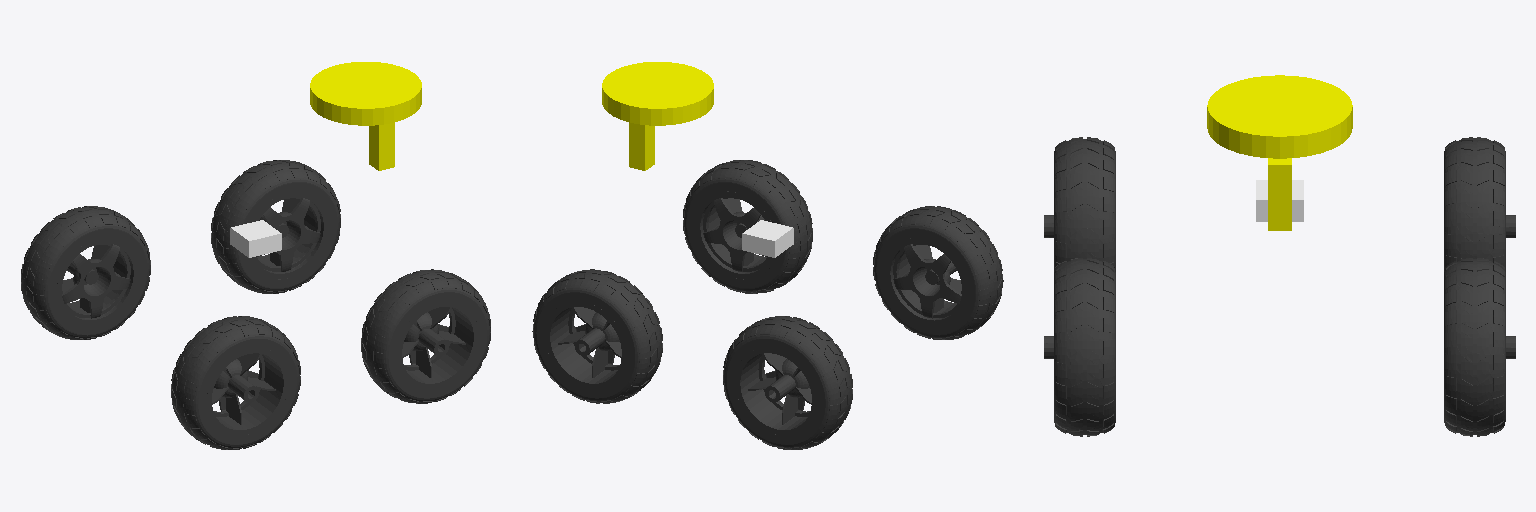
The robot description file, URDF, robot "URDFF_gz":
<?xml version="1.0" encoding="utf-8"?>
<robot name="URDFF_gz">
  
  <!-- Base Link -->
  <link name="base_link">
    <inertial>
      <origin xyz="0.0121459734710621 0.000198241570210142 0.0449906840595474" rpy="0 0 0" />
      <mass value="1.00796524149794" />
      <inertia
        ixx="0.000664022840014205"
        ixy="3.36477372709559E-06"
        ixz="-6.46022439037541E-06"
        iyy="0.00190520705036307"
        iyz="5.00471440887707E-10"
        izz="0.00244406959005576" />
    </inertial>
    <visual>
      <origin xyz="0 0 0" rpy="0 0 3.14159265359" />
      <geometry>
        <mesh filename="package://URDFF_gz/meshes/base_link.STL" />
      </geometry>
      <material name="">
        <color rgba="1 1 0 1" />
      </material>
    </visual>
    <collision>
      <origin xyz="0.012 0 0.045" rpy="0 0 3.14159265359" />
      <geometry>
        <mesh filename="package://URDFF_gz/meshes/base_link.STL" />
      </geometry>
    </collision>
  </link>

  <gazebo reference="base_link">
    <material>Gazebo/Yellow</material>
    <mu1>0.2</mu1>
    <mu2>0.2</mu2>
  </gazebo>
  
  <!-- IMU Link -->
  <link name="imu_link">
    <inertial>
      <mass value="0.01"/>
      <origin xyz="0 0 0" rpy="0 0 0"/>
      <inertia ixx="1e-5" ixy="0" ixz="0" iyy="1e-5" iyz="0" izz="1e-5"/>
    </inertial>
    <visual>
      <geometry>
        <box size="0.02 0.02 0.01"/>
      </geometry>
      <material name="white">
        <color rgba="1 1 1 1"/>
      </material>
    </visual>
  </link>

  <!-- IMU Joint -->
  <joint name="imu_joint" type="fixed">
    <parent link="base_link"/>
    <child link="imu_link"/>
    <origin xyz="0 0 0.05" rpy="0 0 0"/>
  </joint>

  <gazebo reference="imu_link">
    <sensor name="imu_sensor" type="imu">
      <always_on>1</always_on>
      <update_rate>100</update_rate>
      <visualize>true</visualize>
      <topic>imu</topic>
      <gz_frame_id>imu_link</gz_frame_id>
      
      <plugin filename="ignition-gazebo-imu-system" name="ignition::gazebo::systems::Imu">
      </plugin>
      
      <imu>
        <angular_velocity>
          <x><noise type="gaussian"><mean>0.0</mean><stddev>2e-5</stddev></noise></x>
          <y><noise type="gaussian"><mean>0.0</mean><stddev>2e-5</stddev></noise></y>
          <z><noise type="gaussian"><mean>0.0</mean><stddev>2e-5</stddev></noise></z>
        </angular_velocity>
        <linear_acceleration>
          <x><noise type="gaussian"><mean>0.0</mean><stddev>1.7e-4</stddev></noise></x>
          <y><noise type="gaussian"><mean>0.0</mean><stddev>1.7e-4</stddev></noise></y>
          <z><noise type="gaussian"><mean>0.0</mean><stddev>1.7e-4</stddev></noise></z>
        </linear_acceleration>
      </imu>
    </sensor>
  </gazebo>

  <!-- Left Rear Wheel -->
  <link
    name="left_rear_wheel">
    <inertial>
      <origin
        xyz="1.35729605624246E-07 -2.06106699485176E-08 -0.00608684999317365"
        rpy="0 0 0" />
      <mass
        value="0.0310322138231813" />
      <inertia
        ixx="1.37618924502922E-05"
        ixy="-1.82191959281168E-11"
        ixz="-4.10623036677133E-11"
        iyy="1.37620600377143E-05"
        iyz="3.77638956702527E-10"
        izz="2.28600342994284E-05" />
    </inertial>
    <visual>
      <origin
        xyz="0 0 0"
        rpy="0 0 0" />
      <geometry>
        <mesh
          filename="package://URDFF_gz/meshes/left_rear_wheel.STL" />
      </geometry>
      <material
        name="">
        <color
          rgba="0.298039215686275 0.298039215686275 0.298039215686275 1" />
      </material>
    </visual>
    <collision>
      <origin
        xyz="0 0 0"
        rpy="0 0 0" />
      <geometry>
        <mesh
          filename="package://URDFF_gz/meshes/left_rear_wheel.STL" />
      </geometry>
    </collision>
  </link>
  
  <!-- Left Rear Joint -->
  <joint
    name="leftrearwheel"
    type="continuous">
    <origin
      xyz="0.0588 -0.07355 0.011"
      rpy="-1.5708 0 0" />
    <parent
      link="base_link" />
    <child
      link="left_rear_wheel" />
    <axis
      xyz="0 0 1" />
    <limit
      effort="100"
      velocity="100" />
    <dynamics
      damping="0.1"
      friction="0.1" />
  </joint>
  
  <gazebo reference="left_rear_wheel">
    <material>Gazebo/Black</material>
    <mu1>1.5</mu1>
    <mu2>1.5</mu2>
    <kp>1000000.0</kp>
    <kd>100.0</kd>
  </gazebo>
  
  <!-- Right Rear Wheel -->
  <link
    name="right_rear_wheel">
    <inertial>
      <origin
        xyz="-1.35729605582613E-07 -2.06106702729109E-08 0.00608684999317374"
        rpy="0 0 0" />
      <mass
        value="0.0310322138231813" />
      <inertia
        ixx="1.37618924502922E-05"
        ixy="1.82191959023425E-11"
        ixz="-4.10623037177905E-11"
        iyy="1.37620600377143E-05"
        iyz="-3.77638956616702E-10"
        izz="2.28600342994284E-05" />
    </inertial>
    <visual>
      <origin
        xyz="0 0 0"
        rpy="0 0 0" />
      <geometry>
        <mesh
          filename="package://URDFF_gz/meshes/right_rear_wheel.STL" />
      </geometry>
      <material
        name="">
        <color
          rgba="0.298039215686275 0.298039215686275 0.298039215686275 1" />
      </material>
    </visual>
    <collision>
      <origin
        xyz="0 0 0"
        rpy="0 0 0" />
      <geometry>
        <mesh
          filename="package://URDFF_gz/meshes/right_rear_wheel.STL" />
      </geometry>
    </collision>
  </link>
  
  <!-- Right Rear Joint -->
  <joint
    name="rightrearwheel"
    type="continuous">
    <origin
      xyz="0.058826 0.07355 0.011"
      rpy="-1.5708 0 0" />
    <parent
      link="base_link" />
    <child
      link="right_rear_wheel" />
    <axis
      xyz="0 0 1" />
    <limit
      effort="100"
      velocity="100" />
    <dynamics
      damping="0.1"
      friction="0.1" />
  </joint>
  
  <gazebo reference="right_rear_wheel">
    <material>Gazebo/Black</material>
    <mu1>1.5</mu1>
    <mu2>1.5</mu2>
    <kp>1000000.0</kp>
    <kd>100.0</kd>
  </gazebo>
  
  <!-- Left Front Wheel -->
  <link
    name="left_front_wheel">
    <inertial>
      <origin
        xyz="1.35729605582613E-07 -2.06106702711761E-08 -0.00608684999317372"
        rpy="0 0 0" />
      <mass
        value="0.0310322138231813" />
      <inertia
        ixx="1.37618924502922E-05"
        ixy="-1.82191959016201E-11"
        ixz="-4.10623037178628E-11"
        iyy="1.37620600377143E-05"
        iyz="3.77638956616653E-10"
        izz="2.28600342994284E-05" />
    </inertial>
    <visual>
      <origin
        xyz="0 0 0"
        rpy="0 0 0" />
      <geometry>
        <mesh
          filename="package://URDFF_gz/meshes/left_front_wheel.STL" />
      </geometry>
      <material
        name="">
        <color
          rgba="0.298039215686275 0.298039215686275 0.298039215686275 1" />
      </material>
    </visual>
    <collision>
      <origin
        xyz="0 0 0"
        rpy="0 0 0" />
      <geometry>
        <mesh
          filename="package://URDFF_gz/meshes/left_front_wheel.STL" />
      </geometry>
    </collision>
  </link>
  
  <!-- Left Front Joint -->
  <joint
    name="leftfrontwheel"
    type="continuous">
    <origin
      xyz="-0.058826 -0.07355 0.011"
      rpy="-1.5708 0 0" />
    <parent
      link="base_link" />
    <child
      link="left_front_wheel" />
    <axis
      xyz="0 0 1" />
    <limit
      effort="100"
      velocity="100" />
    <dynamics
      damping="0.1"
      friction="0.1" />
  </joint>
  
  <gazebo reference="left_front_wheel">
    <material>Gazebo/Black</material>
    <mu1>1.5</mu1>
    <mu2>1.5</mu2>
    <kp>1000000.0</kp>
    <kd>100.0</kd>
  </gazebo>
  
  <!-- Right Front Wheel -->
  <link
    name="right_front_wheel">
    <inertial>
      <origin
        xyz="-1.3572960585323E-07 -2.06106701098469E-08 0.00608684999317363"
        rpy="0 0 0" />
      <mass
        value="0.0310322138231806" />
      <inertia
        ixx="1.37618924502919E-05"
        ixy="1.82191959211016E-11"
        ixz="-4.10623037049307E-11"
        iyy="1.3762060037714E-05"
        iyz="-3.7763895669176E-10"
        izz="2.28600342994278E-05" />
    </inertial>
    <visual>
      <origin
        xyz="0 0 0"
        rpy="0 0 0" />
      <geometry>
        <mesh
          filename="package://URDFF_gz/meshes/right_front_wheel.STL" />
      </geometry>
      <material
        name="">
        <color
          rgba="0.298039215686275 0.298039215686275 0.298039215686275 1" />
      </material>
    </visual>
    <collision>
      <origin
        xyz="0 0 0"
        rpy="0 0 0" />
      <geometry>
        <mesh
          filename="package://URDFF_gz/meshes/right_front_wheel.STL" />
      </geometry>
    </collision>
  </link>
  
  <!-- Right Front Joint -->
  <joint
    name="rightfrontwheel"
    type="continuous">
    <origin
      xyz="-0.0588 0.07355 0.011"
      rpy="-1.5708 0 0" />
    <parent
      link="base_link" />
    <child
      link="right_front_wheel" />
    <axis
      xyz="0 0 1" />
    <limit
      effort="100"
      velocity="100" />
    <dynamics
      damping="0.1"
      friction="0.1" />
  </joint>
  
  <gazebo reference="right_front_wheel">
    <material>Gazebo/Black</material>
    <mu1>1.5</mu1>
    <mu2>1.5</mu2>
    <kp>1000000.0</kp>
    <kd>100.0</kd>
  </gazebo>

  <!-- LiDAR Link -->
  <link name="lidar_link">
    <inertial>
      <origin xyz="0 0 0" rpy="0 0 0"/>
      <mass value="0.125"/>
      <inertia ixx="0.001" ixy="0" ixz="0" iyy="0.001" iyz="0" izz="0.001"/>
    </inertial>
    <visual>
      <origin xyz="0 0 0" rpy="0 0 0"/>
      <geometry>
        <cylinder radius="0.03" length="0.01"/>
      </geometry>
      <material name="lidar_jaune">
        <color rgba="1 1 0 1"/>
      </material>
    </visual>
    <collision>
      <origin xyz="0 0 0" rpy="0 0 0"/>
      <geometry>
        <cylinder radius="0.03" length="0.01"/>
      </geometry>
    </collision>
  </link>

  <!-- LiDAR Joint -->
  <joint name="lidar_joint" type="fixed">
    <origin xyz="0.068 0 0.12" rpy="0 0 0"/>
    <parent link="base_link"/>
    <child link="lidar_link"/>
  </joint>

  <!-- YDLIDAR X2 Sensor Configuration (Official Specs) -->
  <gazebo reference="lidar_link">
    <material>Gazebo/Black</material>
    <sensor name="ydlidar_x2" type="gpu_lidar">
      <gz_frame_id>lidar_link</gz_frame_id>
      <topic>scan</topic>
      <update_rate>6</update_rate>  <!-- Scan Frequency: 5-8Hz (using 6Hz average) -->
      <lidar>
        <scan>
          <horizontal>
            <!-- Angle Resolution: 0.6-0.96° → using 0.78° average
                 360° / 0.78° ≈ 462 samples -->
            <samples>462</samples>
            <resolution>1</resolution>
            <min_angle>-3.14159</min_angle>  <!-- 360° full scan -->
            <max_angle>3.14159</max_angle>
          </horizontal>
        </scan>
        <range>
          <!-- Range Distance: 0.12-8m (Official spec) -->
          <min>0.12</min>
          <max>8.0</max>
          <resolution>0.01</resolution>
        </range>
        <noise>
          <type>gaussian</type>
          <mean>0.0</mean>
          <stddev>0.015</stddev>  <!-- Realistic noise for triangulation lidar -->
        </noise>
      </lidar>
      <!-- Range Frequency: 3000Hz (3kHz sampling rate) -->
      <always_on>1</always_on>
      <visualize>true</visualize>
    </sensor>
  </gazebo>
  <!-- CAMERA Link - Webcam Nano RS RS680 HD 1080P -->
  <link name="camera_link">
    <inertial>
      <origin xyz="0 0 0" rpy="0 0 0"/>
      <mass value="0.08"/>  <!-- Poids estimé ~80g pour webcam USB -->
      <inertia ixx="0.0001" ixy="0" ixz="0" iyy="0.0001" iyz="0" izz="0.0001"/>
    </inertial>
    <visual>
      <origin xyz="0 0 0" rpy="0 0 0"/>
      <geometry>
        <!-- Petite webcam compacte -->
        <box size="0.01 0.01 0.03"/>
      </geometry>
      <material name="camera_jaune">
        <color rgba="1 1 0 1"/>
      </material>
    </visual>
    <collision>
      <origin xyz="0 0 0" rpy="0 0 0"/>
      <geometry>
        <box size="0.001 0.001 0.03"/>
      </geometry>
    </collision>
  </link>

  <!-- CAMERA Joint -->
  <joint name="camera_joint" type="fixed">
    <origin xyz="0.078 0 0.09" rpy="0 0 0"/>  <!-- Devant le robot -->
    <parent link="base_link"/>
    <child link="camera_link"/>
  </joint>

  <!-- CAMERA Optical Frame (pour ROS) -->
  <link name="camera_optical_link"/>
  
  <joint name="camera_optical_joint" type="fixed">
    <origin xyz="0 0 0" rpy="-1.5707963267948966 0 -1.5707963267948966"/>
    <parent link="camera_link"/>
    <child link="camera_optical_link"/>
  </joint>

  <!-- CAMERA Sensor - Webcam Nano RS RS680 HD 1080P Specs -->
  <gazebo reference="camera_link">
    <material>Gazebo/Black</material>
    <sensor name="rs680_camera" type="camera">
      <gz_frame_id>camera_link</gz_frame_id>
      <topic>camera</topic>
      <update_rate>30</update_rate>  <!-- 30 FPS officiel -->
      <camera name="rs680_webcam">
        <horizontal_fov>1.5708</horizontal_fov>  <!-- 90° angle de vue -->
        <image>
          <width>1920</width>  <!-- Full HD 1080p -->
          <height>1080</height>
          <format>R8G8B8</format>
        </image>
        <clip>
          <near>0.2</near>  <!-- Mise au point: 5cm minimum -->
          <far>100</far>    <!-- À l'infini -->
        </clip>
        <noise>
          <type>gaussian</type>
          <mean>0.0</mean>
          <stddev>0.005</stddev>  <!-- Bonne qualité HD -->
        </noise>
        <lens>
          <intrinsics>
            <!-- Calibration pour 1920x1080 à 90° FOV -->
            <fx>960</fx>
            <fy>960</fy>
            <cx>960</cx>
            <cy>540</cy>
            <s>0</s>
          </intrinsics>
          <distortion>
            <k1>0.0</k1>
            <k2>0.0</k2>
            <k3>0.0</k3>
            <p1>0.0</p1>
            <p2>0.0</p2>
            <center>0.5 0.5</center>
          </distortion>
        </lens>
      </camera>
      <always_on>true</always_on>
      <visualize>true</visualize>
    </sensor>
  </gazebo>


  <!-- Differential Drive Plugin -->
  <gazebo>
    <plugin filename="ignition-gazebo-diff-drive-system" name="ignition::gazebo::systems::DiffDrive">
      <left_joint>rightfrontwheel</left_joint>
      <left_joint>rightrearwheel</left_joint>
      <right_joint>leftfrontwheel</right_joint>
      <right_joint>leftrearwheel</right_joint>
      <wheel_separation>0.1471</wheel_separation>
      <wheel_radius>0.033</wheel_radius>
      <odom_publish_frequency>50</odom_publish_frequency>
      <topic>cmd_vel</topic>
      <odom_topic>odom</odom_topic>
      <tf_topic>tf</tf_topic>
      <frame_id>odom</frame_id>
      <child_frame_id>base_link</child_frame_id>
      <publish_odom_tf>false</publish_odom_tf>
      <publish_wheel_tf>true</publish_wheel_tf>
    </plugin>
  </gazebo>
  
  <gazebo>
    <plugin filename="ignition-gazebo-joint-state-publisher-system" 
            name="ignition::gazebo::systems::JointStatePublisher">
      <topic>joint_states</topic>
    </plugin>
  </gazebo>

</robot>

--- Render facts (derived) ---
Views: 3 orthographic renders of the robot side by side, from view 1: azimuth 30°, elevation 25°; view 2: azimuth 150°, elevation 25°; view 3: azimuth 270°, elevation 25°.
Model URDFF_gz with 9 links and 8 joints (4 continuous, 4 fixed), rooted at base_link, posed every joint at zero.
Visible links, largest first — view 1: left_front_wheel, left_rear_wheel, right_front_wheel, right_rear_wheel, lidar_link, imu_link, camera_link; view 2: right_front_wheel, right_rear_wheel, left_front_wheel, left_rear_wheel, lidar_link, imu_link, camera_link; view 3: left_rear_wheel, right_rear_wheel, lidar_link, right_front_wheel, left_front_wheel, camera_link, imu_link.
Link boxes in pixels (x1,y1,x2,y2): left_front_wheel: (171,316,300,449); left_rear_wheel: (361,269,490,403); right_front_wheel: (21,206,150,339); right_rear_wheel: (211,160,340,293); lidar_link: (310,62,421,125); imu_link: (230,220,281,257); camera_link: (369,122,394,170); right_front_wheel: (723,316,852,449); right_rear_wheel: (532,269,662,403); left_front_wheel: (873,206,1003,339); left_rear_wheel: (683,160,812,293); lidar_link: (602,62,713,125); imu_link: (742,220,793,257); camera_link: (629,123,654,170); left_rear_wheel: (1044,258,1115,436); right_rear_wheel: (1444,258,1515,436); lidar_link: (1207,75,1352,158); right_front_wheel: (1444,137,1515,271); left_front_wheel: (1044,137,1115,271); camera_link: (1268,158,1291,230); imu_link: (1256,180,1303,221).
Bounding box of the posed robot: 0.1937 × 0.1942 × 0.1509 m (x, y, z).
Meshes: 5 distinct files referenced, 4 mesh visuals loaded (4 binary STL); not drawn: 1 (reference not matched to a file when rendering).
